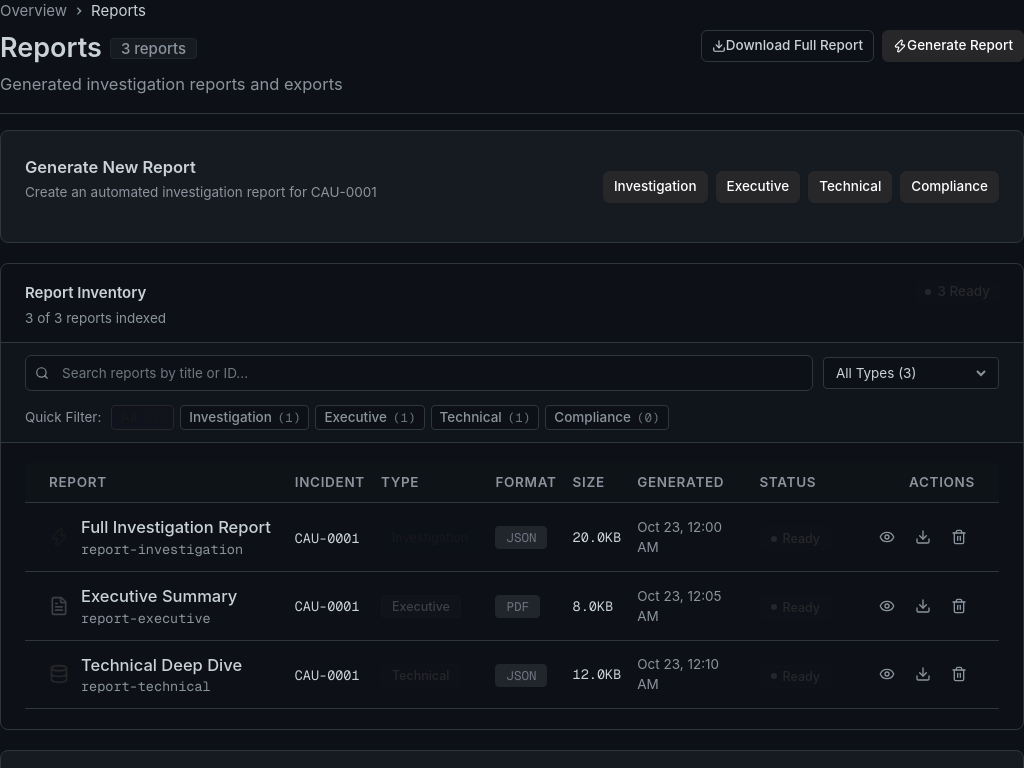
it: ReportsPage - Action Buttons Functionality › Delete icon opens confirmation dialog and deletes the report upon confirmation
expect the text "report-executive" is shown: met, box [81,608,211,626]
Click the button named "delete report": [959, 606] box [943,590,975,622]
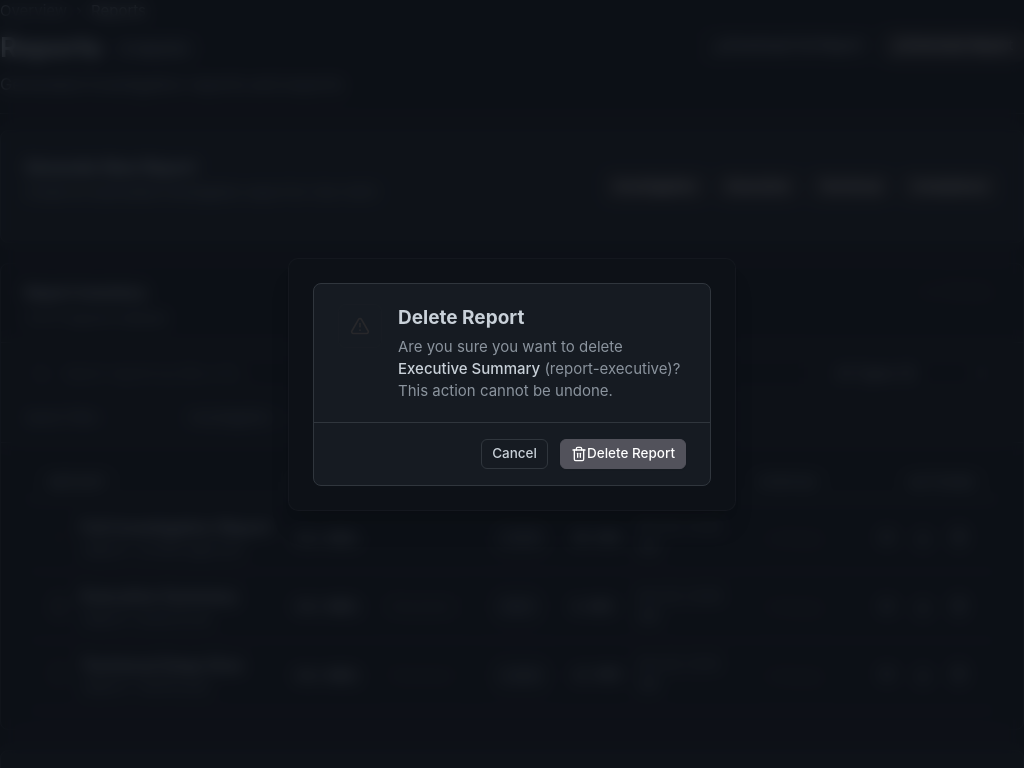
expect the dialog is shown: met
expect the heading "Delete Report" is shown: met, box [398,306,524,328]
expect the text "Are you sure you want to delete" is shown: met, box [398,336,623,356]
Click the button "Delete Report": [623, 454] box [560,438,686,468]
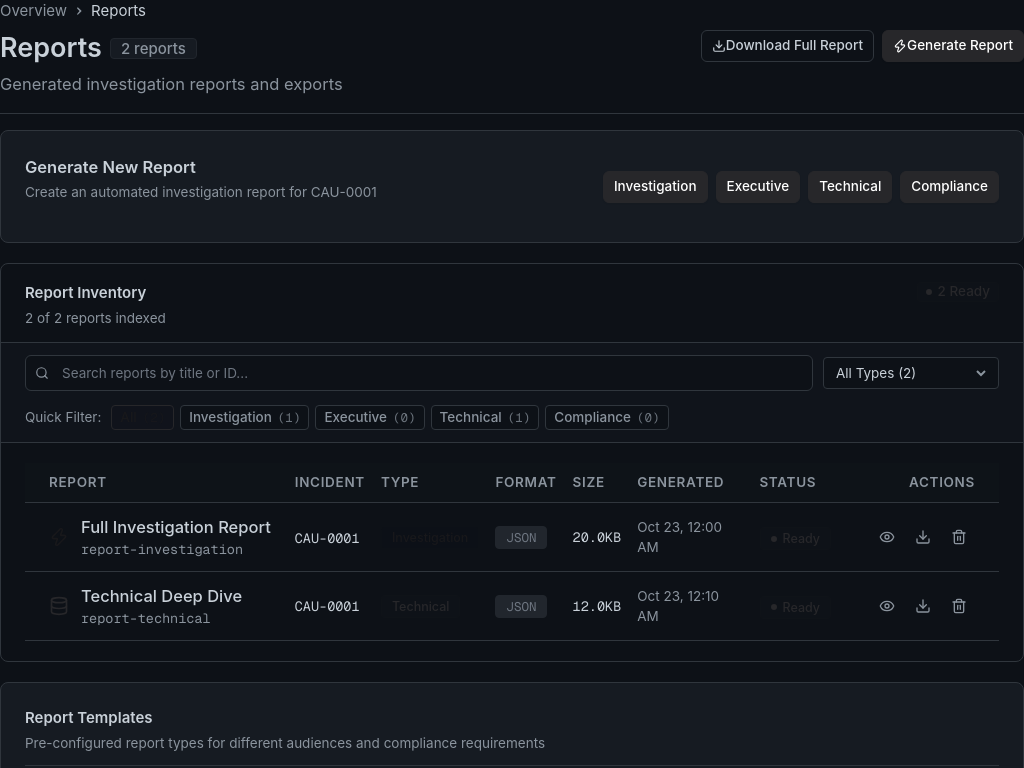
expect the dialog is gone: met
expect the text "report-executive" is gone: met
